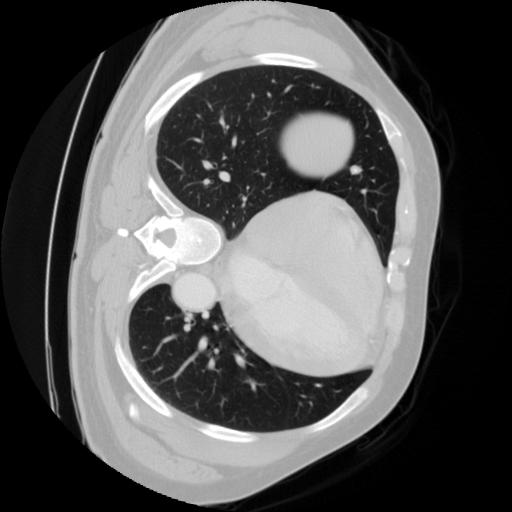nodule: (348, 161, 365, 178)
